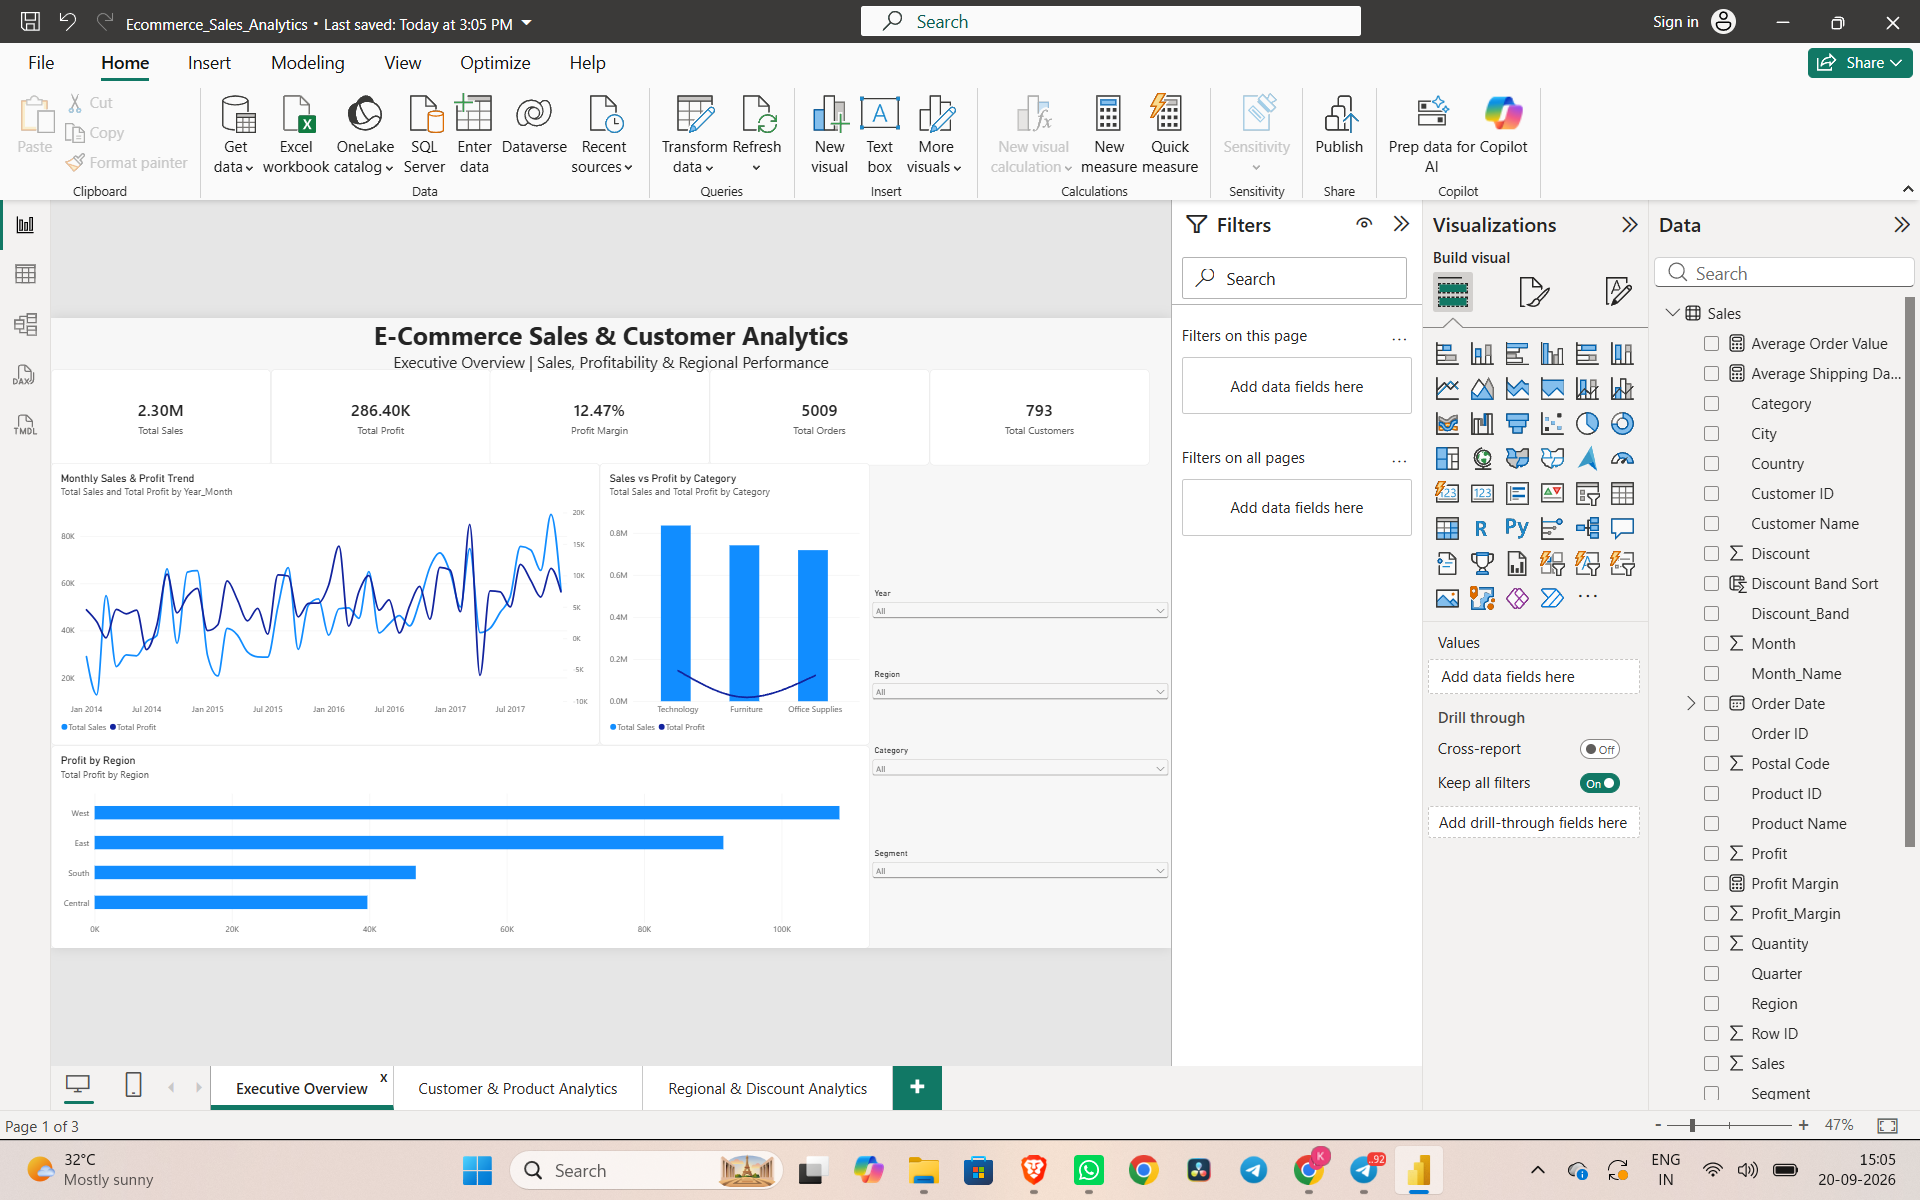

The dashboard page shown, as its layout file describes it:
{"tool":"powerbi","page":{"name":"Executive Overview","canvas":[1920,1080],"ordinal":0},"visuals":[{"type":"card","fields":{"Values":["Sales.Total Sales"]},"box":[0,87.3,376.7,164.7],"z":0},{"type":"card","fields":{"Values":["Sales.Total Profit"]},"box":[376.7,87.3,376.7,164.7],"z":1000},{"type":"card","fields":{"Values":["Sales.Profit Margin"]},"box":[752.9,87.3,376.7,164.7],"z":2000},{"type":"card","fields":{"Values":["Sales.Total Orders"]},"box":[1130,87.3,376.7,164.7],"z":3000},{"type":"card","fields":{"Values":["Sales.Total Customers"]},"box":[1506.7,87.3,376.7,164.7],"z":4000},{"type":"lineChart","title":"Monthly Sales & Profit Trend","fields":{"Category":["Sales.Year_Month"],"Y":["Sales.Total Sales"],"Y2":["Sales.Total Profit"]},"box":[0,249.1,940.7,483.7],"z":5000},{"type":"lineClusteredColumnComboChart","title":"Sales vs Profit by Category","fields":{"Category":["Sales.Category"],"Y":["Sales.Total Sales"],"Y2":["Sales.Total Profit"]},"box":[940.7,249.1,463.1,483.7],"z":6000},{"type":"clusteredBarChart","title":"Profit by Region","fields":{"Category":["Sales.Region"],"Y":["Sales.Total Profit"]},"box":[0,732.8,1403.8,347.9],"z":7000},{"type":"slicer","fields":{"Values":["Sales.Year"]},"box":[1403.8,463.1,516.6,140],"z":8000},{"type":"slicer","fields":{"Values":["Sales.Region"]},"box":[1403.8,603.1,516.6,109.1],"z":9000},{"type":"slicer","fields":{"Values":["Sales.Category"]},"box":[1403.8,732.8,516.6,156.4],"z":10000},{"type":"slicer","fields":{"Values":["Sales.Segment"]},"box":[1403.8,907.7,516.6,172.9],"z":11000},{"type":"textbox","box":[100.9,100.9,825.4,107],"z":12000},{"type":"textbox","box":[100.9,222.3,209.9,177],"z":13000},{"type":"textbox","box":[1507,252,377,481],"z":14000},{"type":"textbox","box":[100.9,0,298.5,399.3],"z":15000},{"type":"textbox","box":[0,0,1920.4,100.7],"z":16000}]}

Visuals, with their boxes on the page's 1920x1080 design canvas (x1, y1, x2, y2). These are canvas units, not pixel positions in the 1920x1200 screenshot, which may show the page scaled, cropped or inside an application window:
card - Sales.Total Sales: 0, 87, 377, 252
card - Sales.Total Profit: 377, 87, 753, 252
card - Sales.Profit Margin: 753, 87, 1130, 252
card - Sales.Total Orders: 1130, 87, 1507, 252
card - Sales.Total Customers: 1507, 87, 1883, 252
"Monthly Sales & Profit Trend" lineChart: 0, 249, 941, 733
"Sales vs Profit by Category" lineClusteredColumnComboChart: 941, 249, 1404, 733
"Profit by Region" clusteredBarChart: 0, 733, 1404, 1081
slicer - Sales.Year: 1404, 463, 1920, 603
slicer - Sales.Region: 1404, 603, 1920, 712
slicer - Sales.Category: 1404, 733, 1920, 889
slicer - Sales.Segment: 1404, 908, 1920, 1081
textbox: 101, 101, 926, 208
textbox: 101, 222, 311, 399
textbox: 1507, 252, 1884, 733
textbox: 101, 0, 399, 399
textbox: 0, 0, 1920, 101
